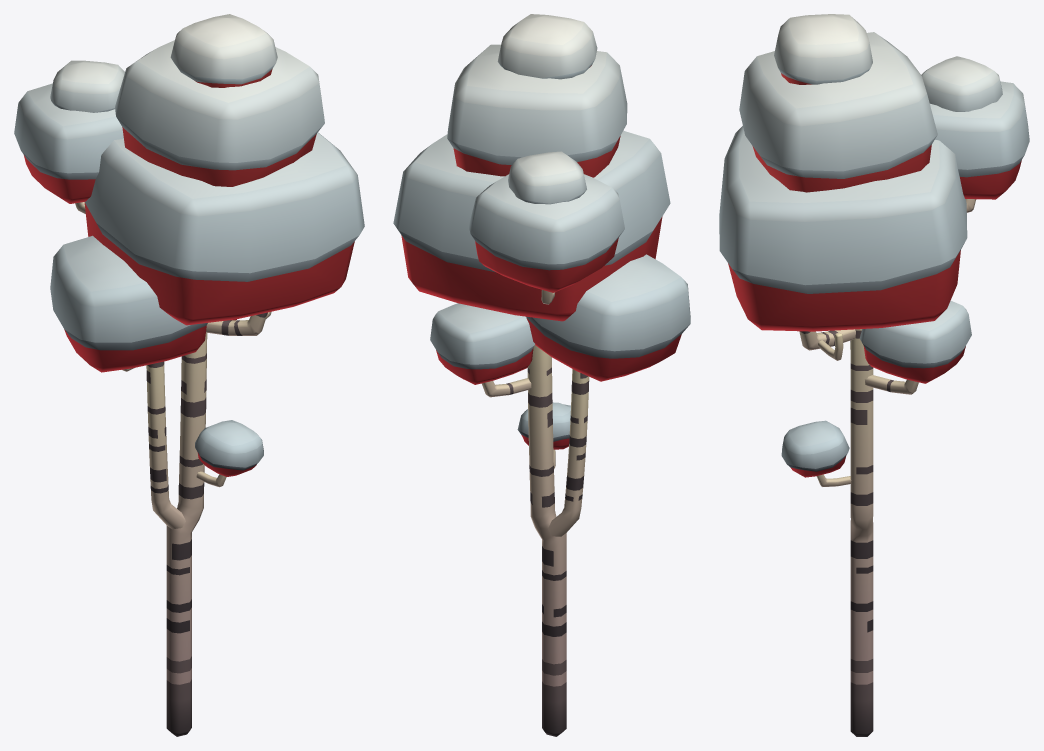
Rendered from birch_tree_col3_01_snow.fbx.
3 renders of one model, left to right at view 1: azimuth 30°, elevation 25°; view 2: azimuth 150°, elevation 25°; view 3: azimuth 270°, elevation 25°, orthographic. The views are drawn at different scales.
Visible parts, largest first — view 1: birch_tree_col3_01_snow; view 2: birch_tree_col3_01_snow; view 3: birch_tree_col3_01_snow.
Boxes of the visible parts, x1,y1,x2,y2 form: birch_tree_col3_01_snow: (14, 14, 364, 736); birch_tree_col3_01_snow: (393, 14, 690, 736); birch_tree_col3_01_snow: (719, 14, 1029, 736).
Size of the model in its own units: 492 by 1301 by 506.
1 material, 1 textured.
